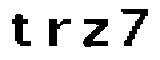7: (117, 5, 151, 46)
r: (42, 16, 72, 50)
t: (7, 9, 34, 50)
z: (77, 17, 110, 48)
